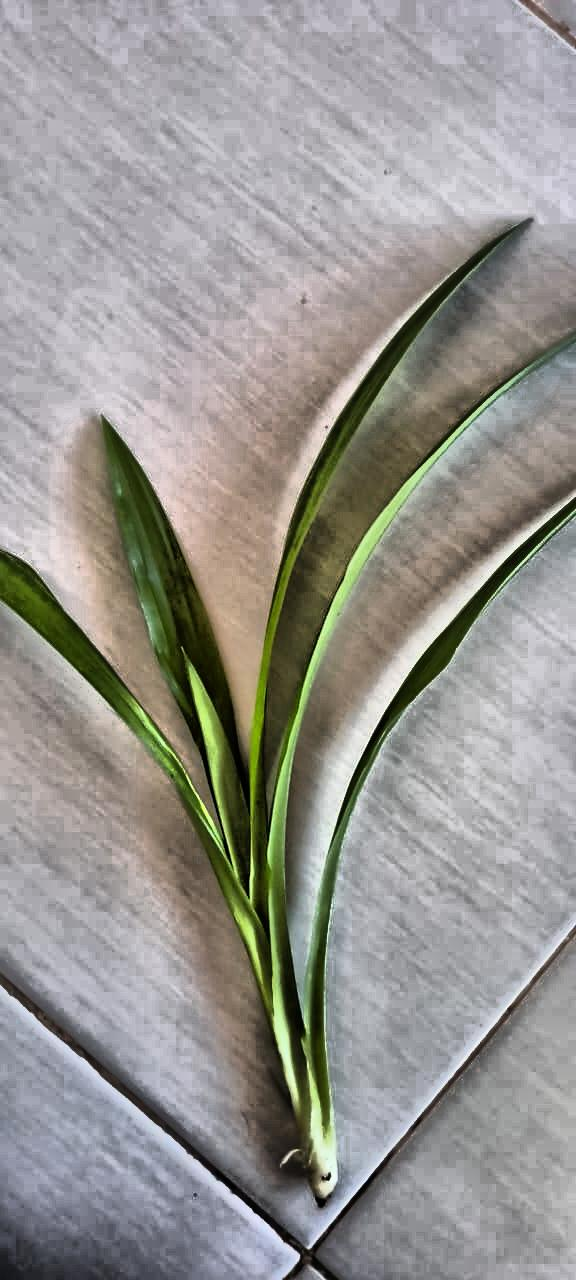daun pandan: (2, 226, 575, 1203)
